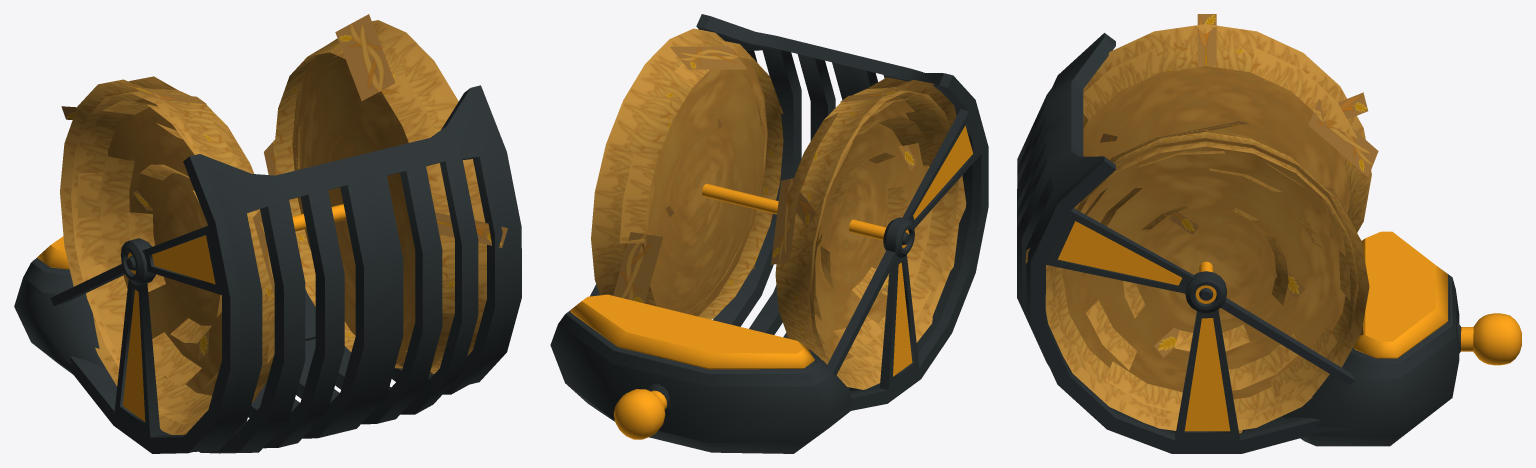
Rendered from Straw_Dog_4_tail.obj.
3 views of the same model, side by side, from view 1: azimuth 30°, elevation 25°; view 2: azimuth 150°, elevation 25°; view 3: azimuth 270°, elevation 25° (orthographic). The views are drawn at different scales.
Visible parts, largest first — view 1: tail_Cube; view 2: tail_Cube; view 3: tail_Cube.
Boxes of the visible parts, left/top/right/bottom form: tail_Cube: left=14, top=14, right=521, bottom=453; tail_Cube: left=550, top=14, right=988, bottom=453; tail_Cube: left=1017, top=14, right=1521, bottom=453.
Size of the model in its own units: 4.62 by 5.14 by 7.11.
